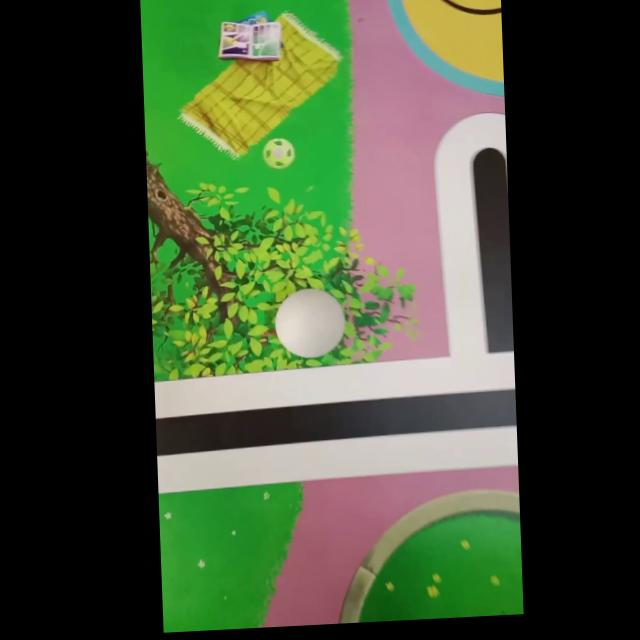white ball: (272, 285, 347, 360)
